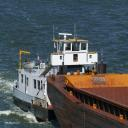tugboat: (13, 24, 110, 127)
